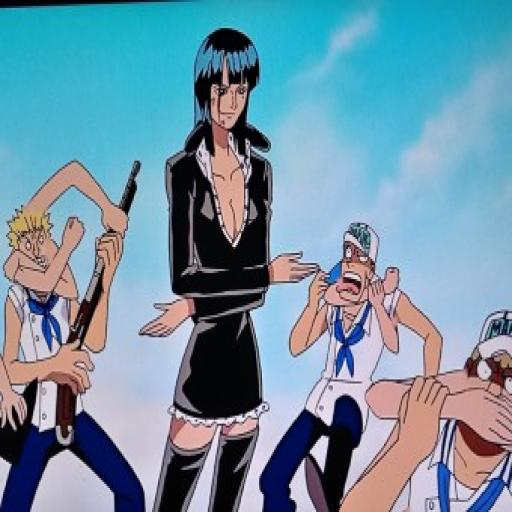NicoRobin: (175, 16, 271, 164)
